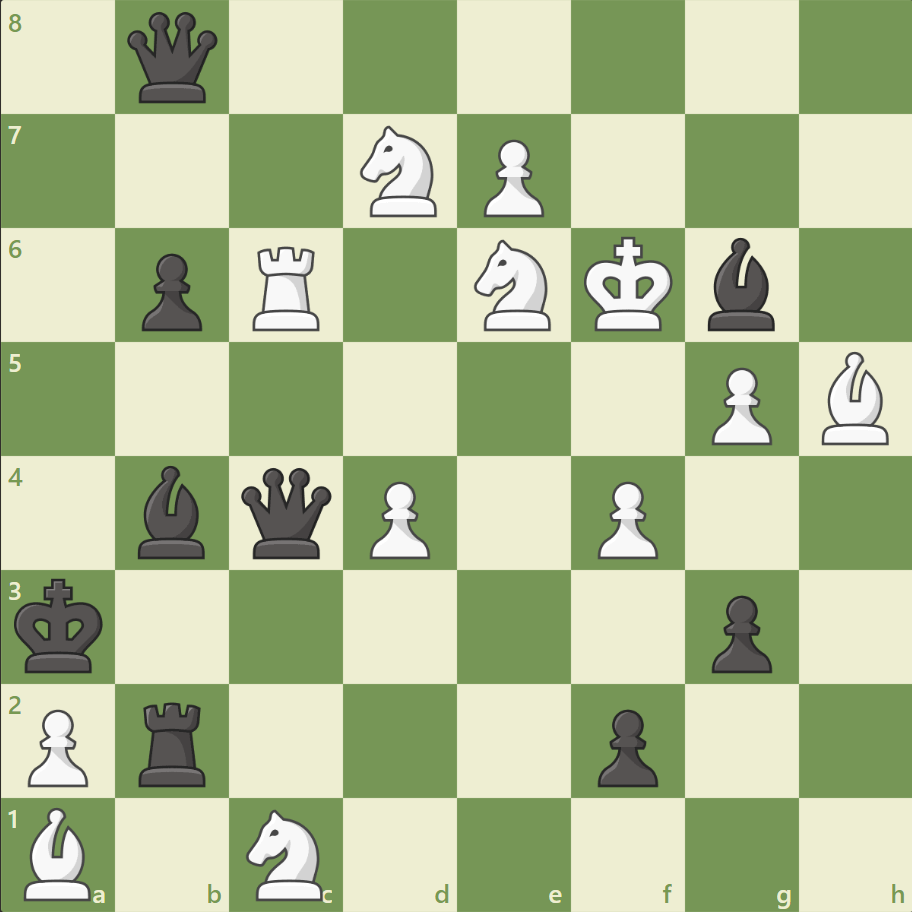B: (17, 801, 101, 904), (812, 347, 896, 449)
K: (579, 231, 679, 339)
N: (351, 121, 449, 223), (465, 234, 562, 337), (238, 802, 335, 904)
P: (474, 132, 549, 223), (701, 359, 776, 450), (20, 700, 95, 791), (361, 473, 435, 564), (588, 473, 662, 564)
R: (246, 239, 329, 336)
b: (698, 233, 782, 336), (131, 460, 215, 563)
k: (11, 571, 111, 679)
p: (133, 246, 208, 337), (701, 586, 776, 677), (588, 700, 662, 791)
q: (124, 9, 223, 108), (237, 463, 336, 562)
r: (133, 693, 215, 790)
